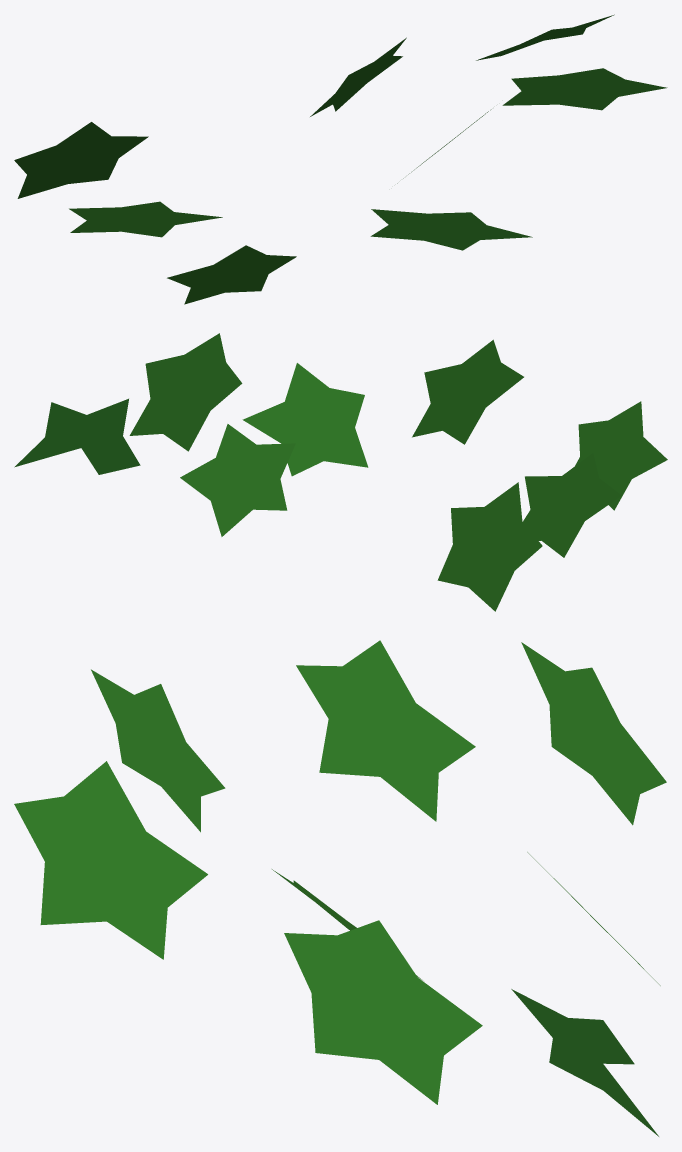
The picture shows the model from 3 angles, top to bottom: view 1: azimuth 30°, elevation 25°; view 2: azimuth 150°, elevation 25°; view 3: azimuth 270°, elevation 25°; orthographic projection. The views are drawn at different scales.
Visible parts, largest first — view 1: r7c3_l11; view 2: r7c3_l11; view 3: r7c3_l11.
Boxes of the visible parts, x1,y1,x2,y2 form: r7c3_l11: (14,14,667,304); r7c3_l11: (14,333,667,611); r7c3_l11: (14,640,666,1136).
Bounding box in the file's own units: 1.65 × 0.3019 × 1.06.
